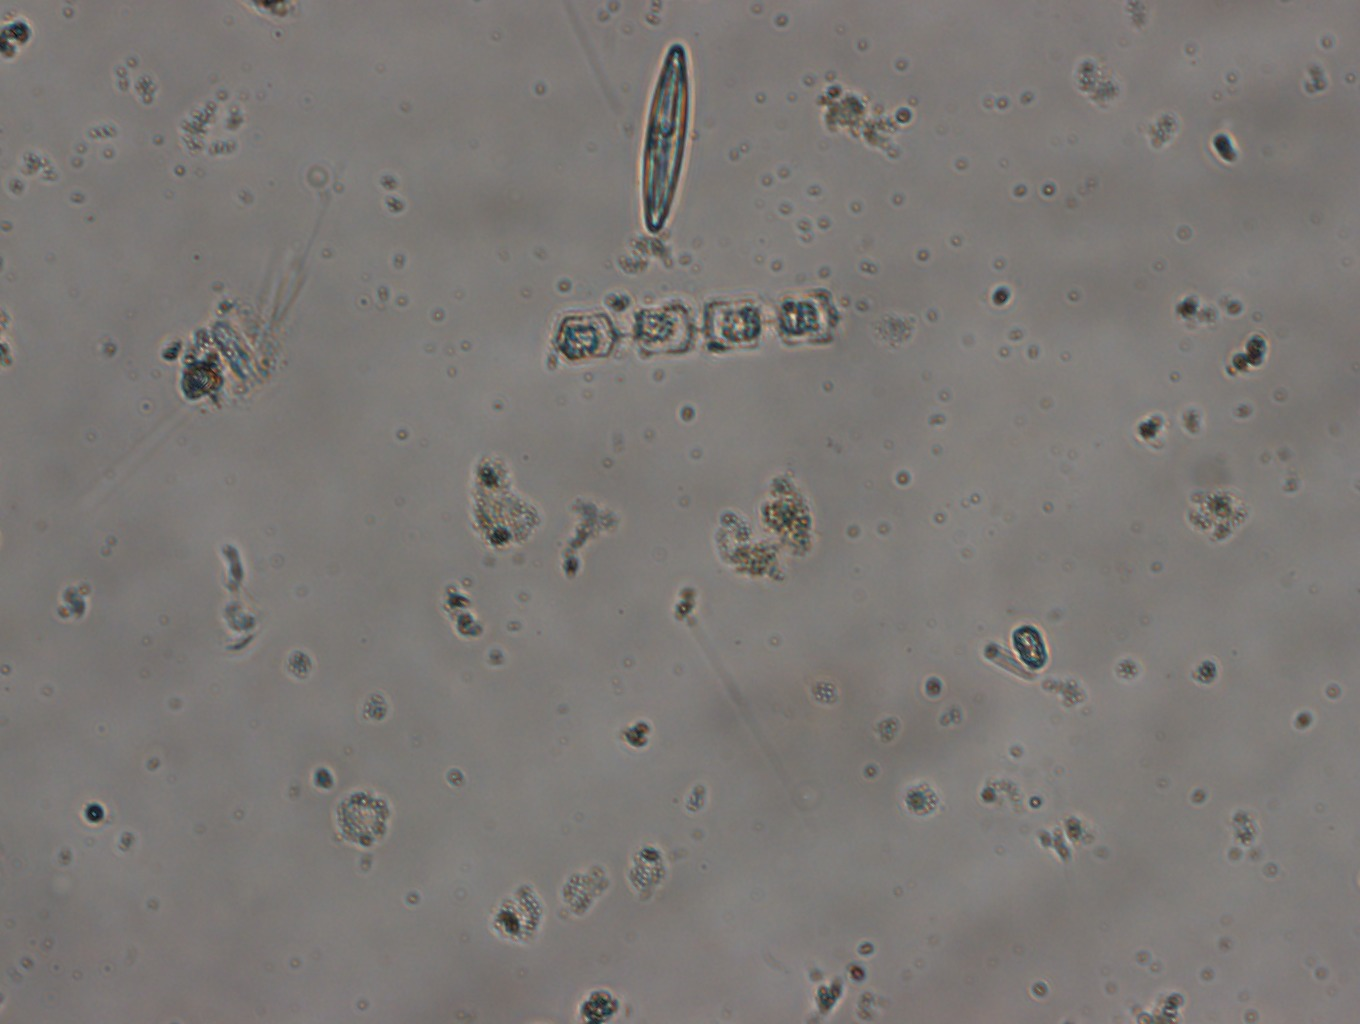chaetoceros: (555, 285, 841, 366)
navicula: (638, 39, 696, 237)
